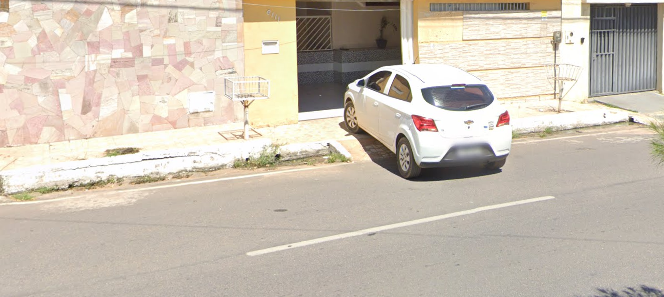car: (340, 52, 517, 193)
